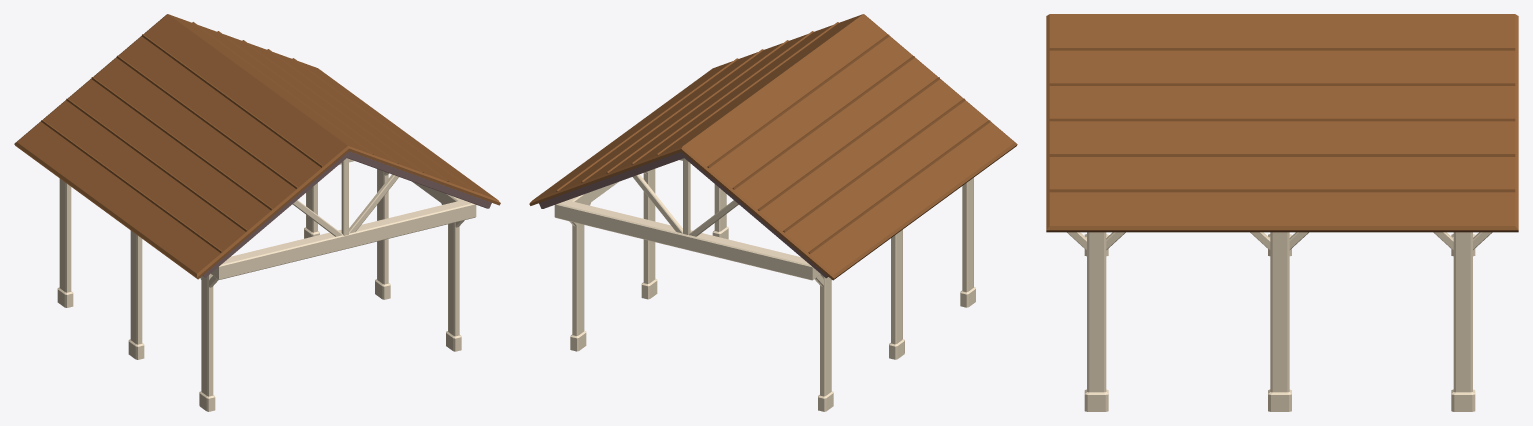
Rendered from structures_a03_002.gltf.
3 renders of one model, left to right at view 1: azimuth 30°, elevation 25°; view 2: azimuth 150°, elevation 25°; view 3: azimuth 270°, elevation 25°, orthographic. The views are drawn at different scales.
Visible parts, largest first — view 1: structures_a03_002.001; view 2: structures_a03_002.001; view 3: structures_a03_002.001.
Boxes of the visible parts, bbox=[...] form: structures_a03_002.001: bbox=[14, 14, 500, 411]; structures_a03_002.001: bbox=[529, 14, 1017, 411]; structures_a03_002.001: bbox=[1046, 14, 1518, 411].
Size of the model in its own units: 6.4 by 4.94 by 6.67.
1 material, 1 textured.
